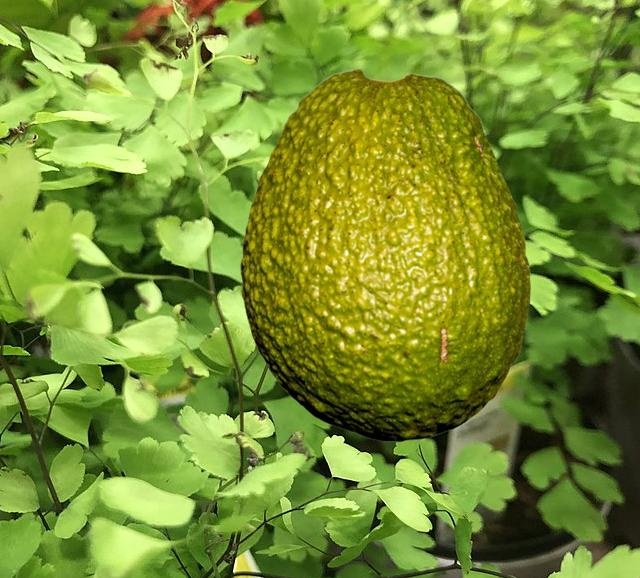avocado: (240, 68, 529, 441)
